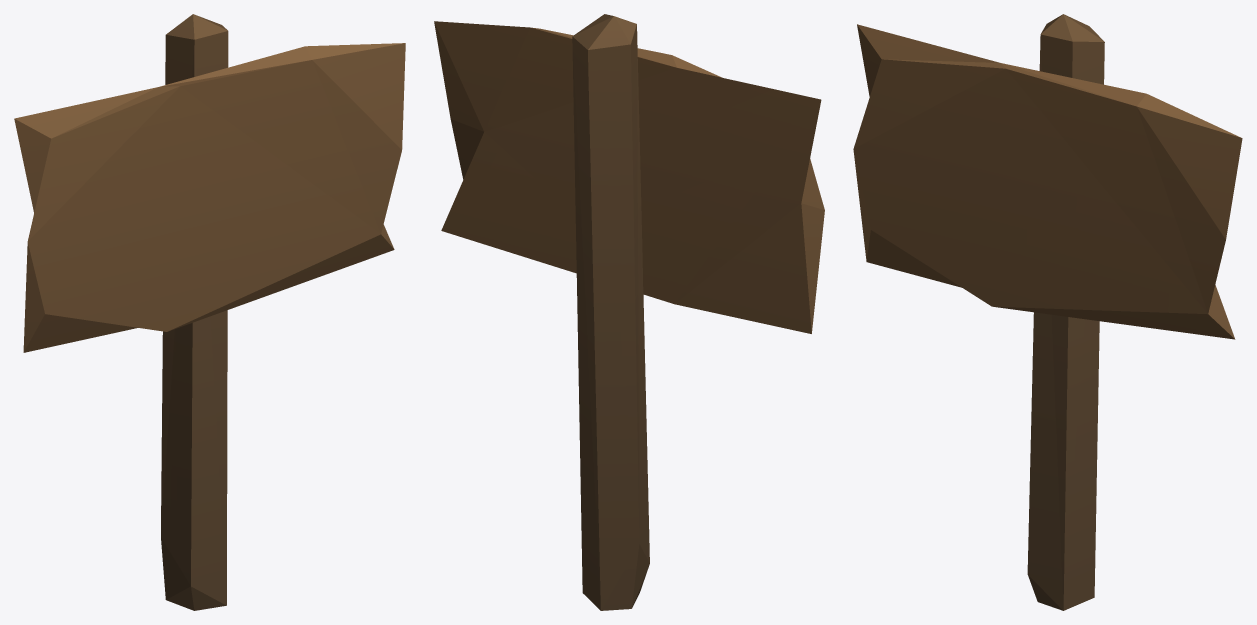
Rendered from Mesh_Props_Pointer_01.FBX.
3 renders of one model, left to right at view 1: azimuth 30°, elevation 25°; view 2: azimuth 150°, elevation 25°; view 3: azimuth 330°, elevation 25°, orthographic.
Visible parts, largest first — view 1: Mesh_Props_Pointer_01; view 2: Mesh_Props_Pointer_01; view 3: Mesh_Props_Pointer_01.
Part boxes in pixels (x1=…): Mesh_Props_Pointer_01: x1=14, y1=14, x2=405, y2=610; Mesh_Props_Pointer_01: x1=434, y1=14, x2=824, y2=610; Mesh_Props_Pointer_01: x1=853, y1=14, x2=1242, y2=610.
Size of what is drawn, in the model's own units: 107 by 19.31 by 154.
